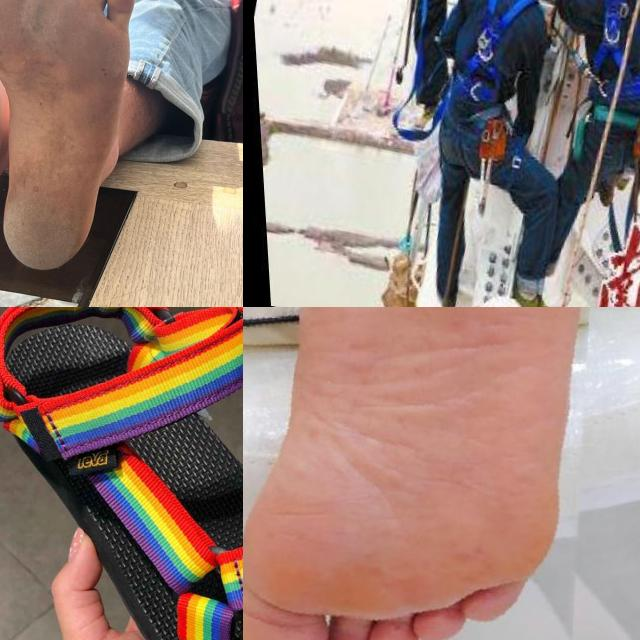Barefoots: (243, 307, 594, 640)
Harness: (452, 0, 539, 106), (593, 0, 630, 74)
Sandals: (0, 307, 243, 640), (0, 0, 135, 271)
